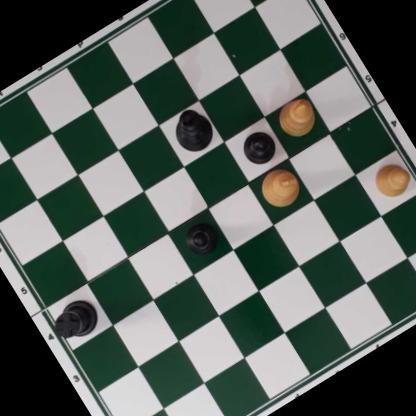black-king: (165, 102, 220, 159)
black-pawn: (179, 216, 226, 263), (236, 124, 281, 170)
black-rook: (47, 291, 105, 347)
white-bishop: (270, 92, 324, 146)
white-king: (254, 161, 306, 214)
white-pawn: (367, 155, 416, 204)
